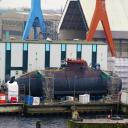submarine: (6, 58, 128, 92)
